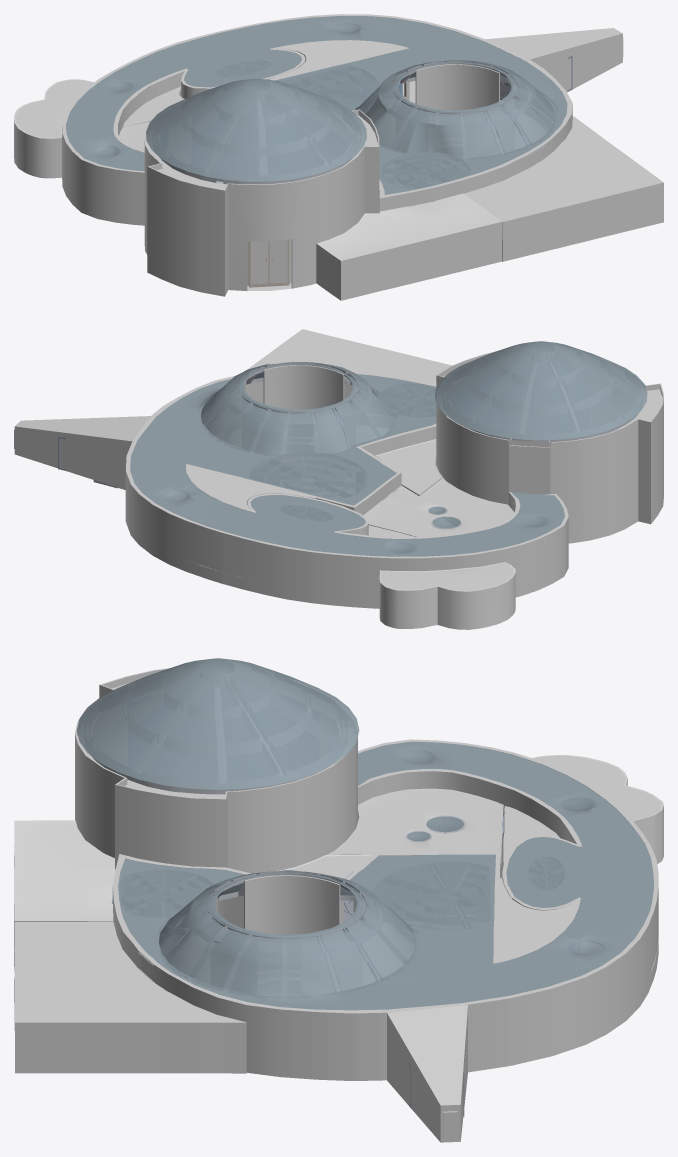
The model's file is Environnement_v2.fbx.
3 views of the same model, one above another, from view 1: azimuth 30°, elevation 25°; view 2: azimuth 150°, elevation 25°; view 3: azimuth 270°, elevation 25° (orthographic). The views are drawn at different scales.
Visible parts, largest first — view 1: toit_couloir, hall, toit_hall, couloir, plaf_final, labo_chimie, labo_final, plaf_chimie, couloir_ext, cours_ext, plaf_photo, labo_photo (+6 smaller); view 2: toit_couloir, couloir, hall, toit_hall, couloir_ext, labo_photo, plaf_patient, plaf_final, cours_ext, plaf_photo, bureau, aquarium_couloir (+1 smaller); view 3: toit_couloir, couloir, toit_hall, hall, plaf_final, labo_final, plaf_chimie, plaf_patient, couloir_ext, cours_ext, aquarium_couloir, plaf_photo (+5 smaller).
Part boxes in pixels (x1,y1,x2,y2): toit_couloir: (66,16,567,194); hall: (144,109,379,296); toit_hall: (146,78,366,181); couloir: (62,14,572,225); plaf_final: (464,116,663,221); labo_chimie: (316,222,501,300); labo_final: (464,121,663,261); plaf_chimie: (317,193,501,260); couloir_ext: (486,28,623,92); cours_ext: (415,64,499,110); plaf_photo: (14,79,93,138); labo_photo: (14,79,93,178); toit_couloir: (130,361,564,556); couloir: (125,372,568,608); hall: (436,351,663,543); toit_hall: (435,341,647,440); couloir_ext: (14,416,150,489); labo_photo: (379,562,515,629); plaf_patient: (363,478,514,536); plaf_final: (247,329,451,384); cours_ext: (244,365,344,409); plaf_photo: (380,562,514,591); bureau: (375,439,442,495); aquarium_couloir: (188,466,315,510); toit_couloir: (118,741,654,1010); couloir: (112,739,658,1080); toit_hall: (77,658,359,789); hall: (75,668,357,873); plaf_final: (14,922,246,1022); labo_final: (14,922,246,1073); plaf_chimie: (14,820,115,921); plaf_patient: (327,788,503,863); couloir_ext: (387,1005,467,1142); cours_ext: (215,875,340,934); aquarium_couloir: (497,878,577,961); plaf_photo: (534,755,663,820).
Bounding box in the file's own units: 44.71 × 34.82 × 11.96.
